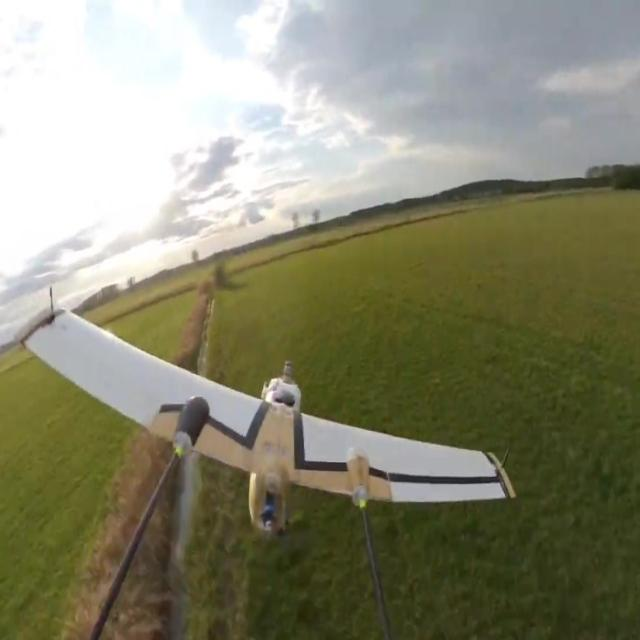iha: (9, 304, 514, 541)
